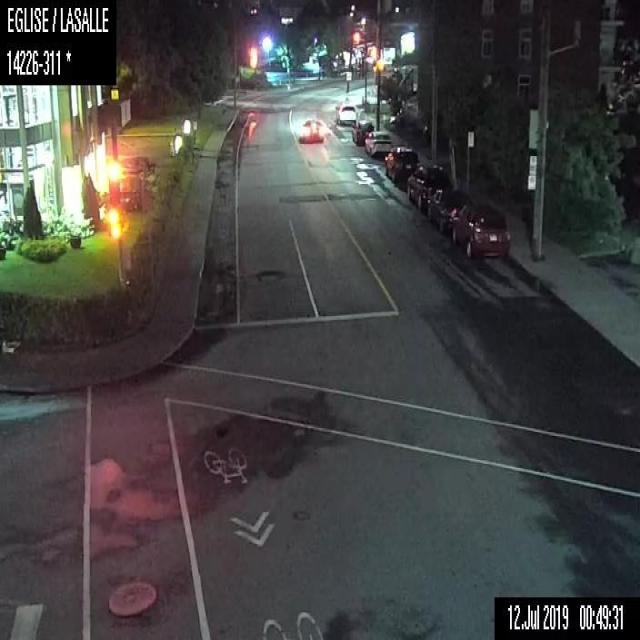vehicle: (452, 202, 510, 259), (406, 164, 455, 212), (426, 185, 470, 233), (383, 144, 421, 187), (364, 128, 394, 162), (333, 100, 359, 126), (298, 117, 324, 143), (351, 117, 374, 146)
